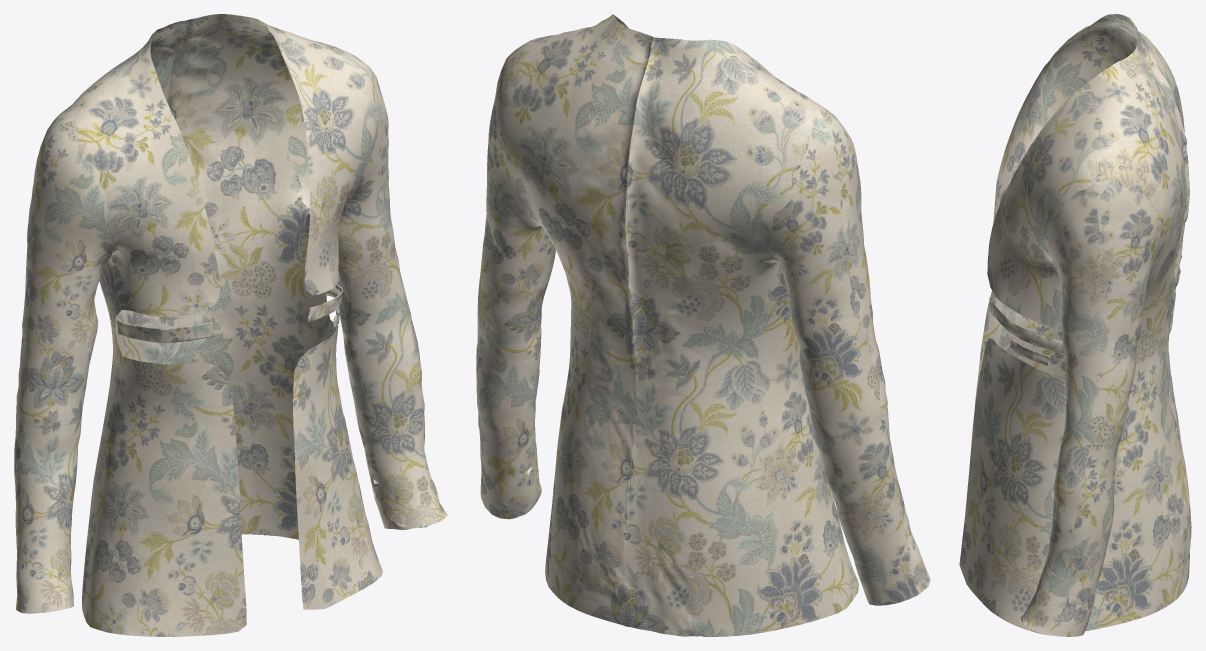
Rendered from full_lining_no_vent.glb.
3 views of the same model, side by side, from view 1: azimuth 30°, elevation 25°; view 2: azimuth 150°, elevation 25°; view 3: azimuth 270°, elevation 25° (orthographic). The views are drawn at different scales.
Visible parts, largest first — view 1: lining_no_vent.003, Cloth.002; view 2: lining_no_vent.003; view 3: lining_no_vent.003, Cloth.002.
Boxes of the visible parts, x1=… form: lining_no_vent.003: x1=14, y1=14, x2=447, y2=636; Cloth.002: x1=116, y1=284, x2=342, y2=342; lining_no_vent.003: x1=476, y1=14, x2=930, y2=636; lining_no_vent.003: x1=959, y1=14, x2=1191, y2=636; Cloth.002: x1=989, y1=297, x2=1063, y2=365.
Size of the model in its own units: 59.89 by 74.01 by 29.13.
1 material, 1 textured.
